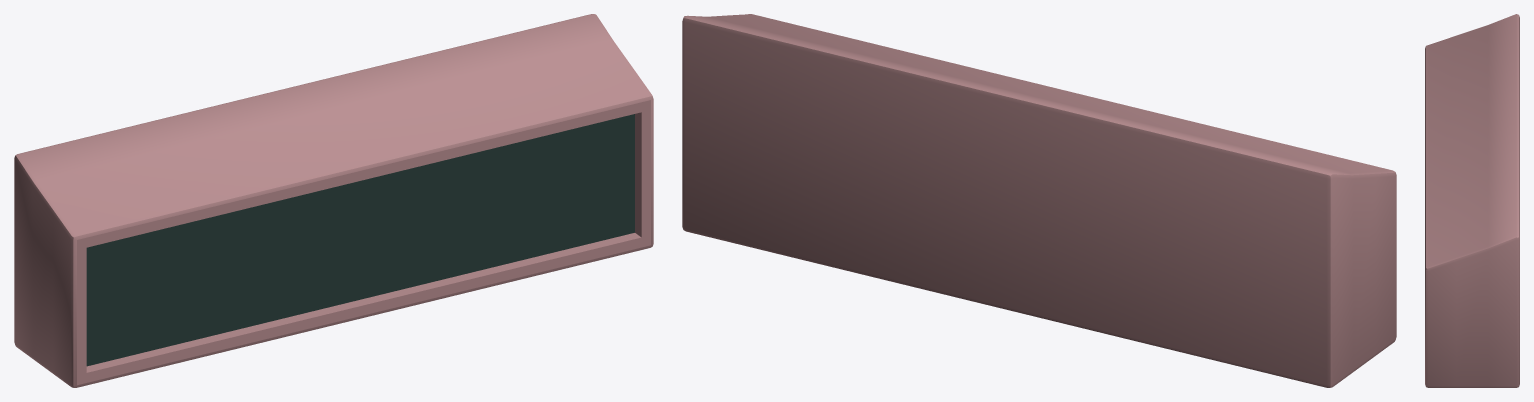
The model's file is 2e boitier.fbx.
3 views of the same model, side by side, from view 1: azimuth 30°, elevation 25°; view 2: azimuth 150°, elevation 25°; view 3: azimuth 270°, elevation 25° (orthographic). The views are drawn at different scales.
Visible parts, largest first — view 1: Box004; view 2: Box004; view 3: Box004.
Part boxes in pixels (left/top/right/bottom): Box004: left=14, top=14, right=653, bottom=387; Box004: left=682, top=14, right=1396, bottom=387; Box004: left=1425, top=14, right=1519, bottom=387.
Size of the model in its own units: 410 by 130 by 73.26.
